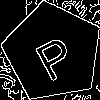P: (28, 27, 79, 83)
